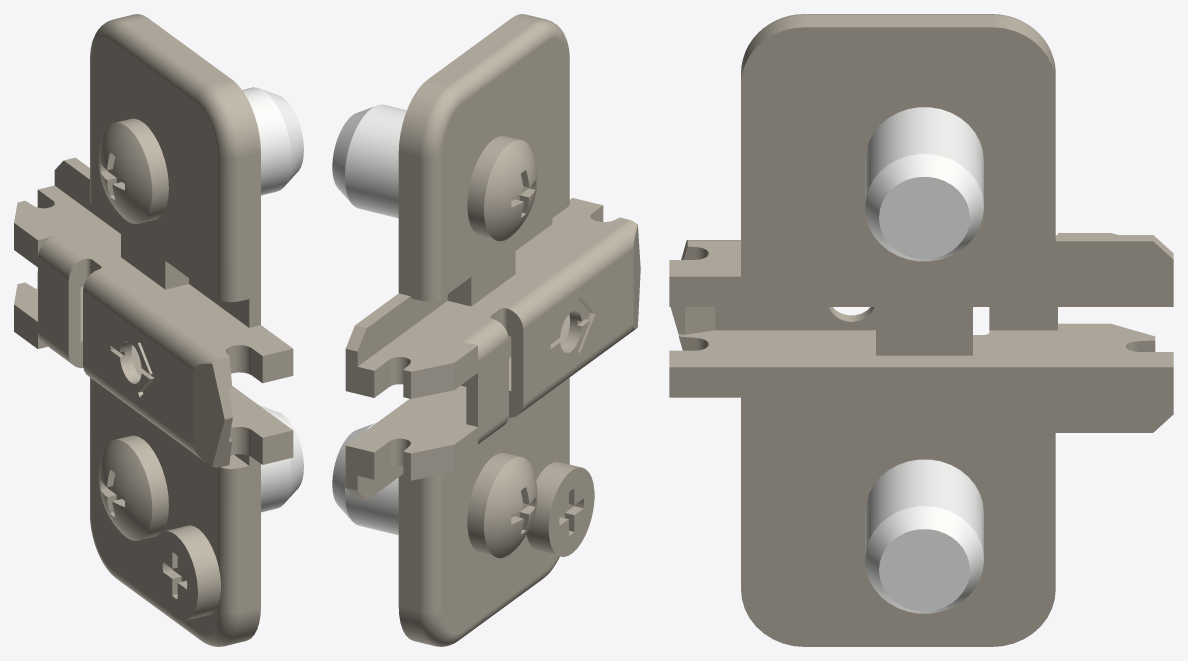
The picture shows the model from 3 angles, left to right: view 1: azimuth 30°, elevation 25°; view 2: azimuth 150°, elevation 25°; view 3: azimuth 270°, elevation 25°; orthographic projection. The views are drawn at different scales.
Parts seen in each view (by area): view 1: bau2488427520; view 2: bau2488427520; view 3: bau2488427520.
Boxes of the visible parts, x1,y1,x2,y2 form: bau2488427520: (14,14,303,646); bau2488427520: (332,14,640,646); bau2488427520: (669,14,1173,646).
Bounding box in the file's own units: 19.6 × 56.3 × 41.51.
